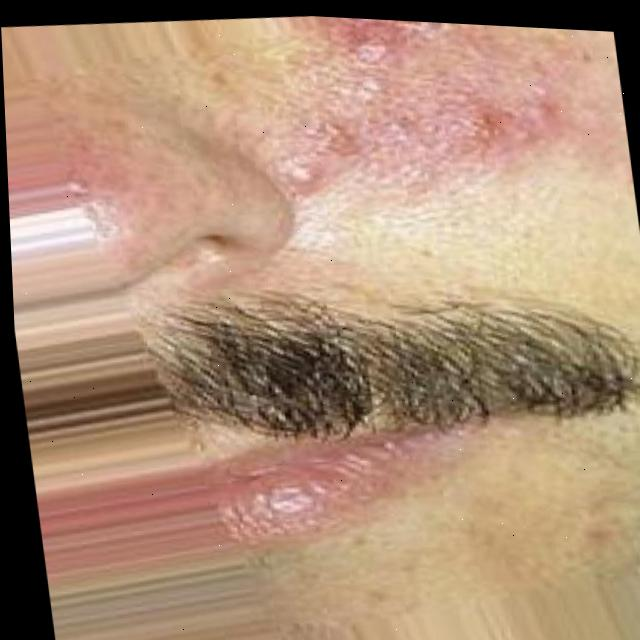Rosacea: (262, 14, 634, 206), (63, 98, 207, 247)
